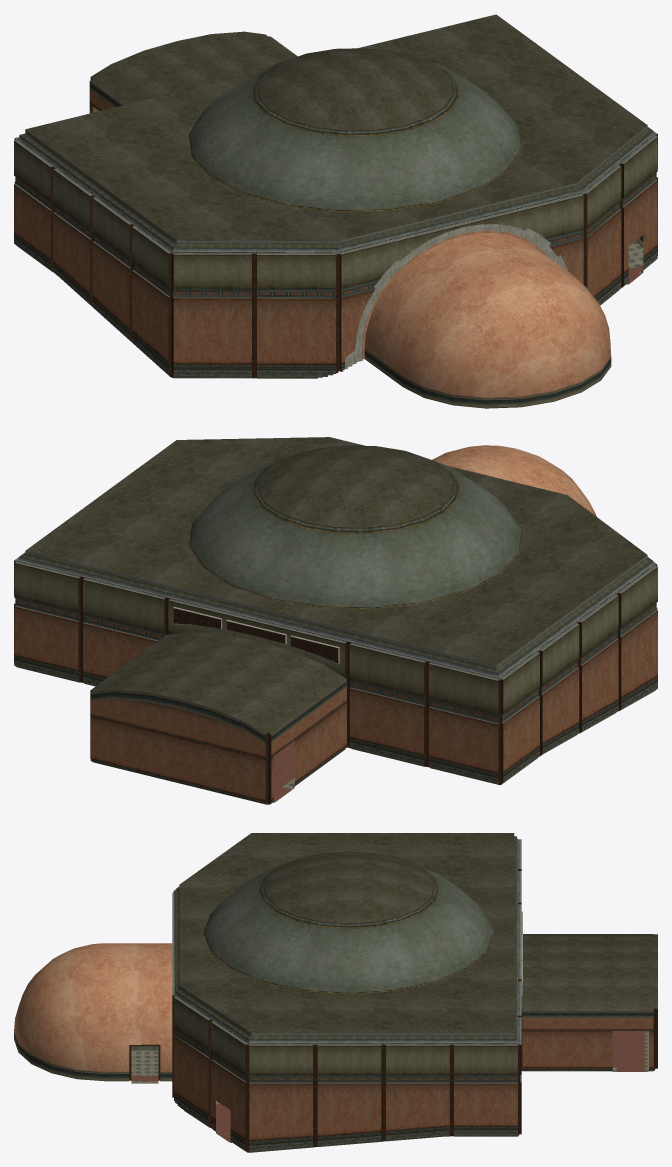
File: mun_corl_guild_theater_s01_r6_theater_mesh_r6.fbx
3 views of the same model, one above another, from view 1: azimuth 30°, elevation 25°; view 2: azimuth 150°, elevation 25°; view 3: azimuth 270°, elevation 25° (orthographic). The views are drawn at different scales.
Visible parts, largest first — view 1: mesh_node; view 2: mesh_node; view 3: mesh_node.
Boxes of the visible parts, x1,y1,x2,y2 form: mesh_node: (14, 14, 657, 408); mesh_node: (14, 437, 657, 804); mesh_node: (14, 833, 657, 1152).
Size of the model in its own units: 54.05 by 22 by 70.91.
